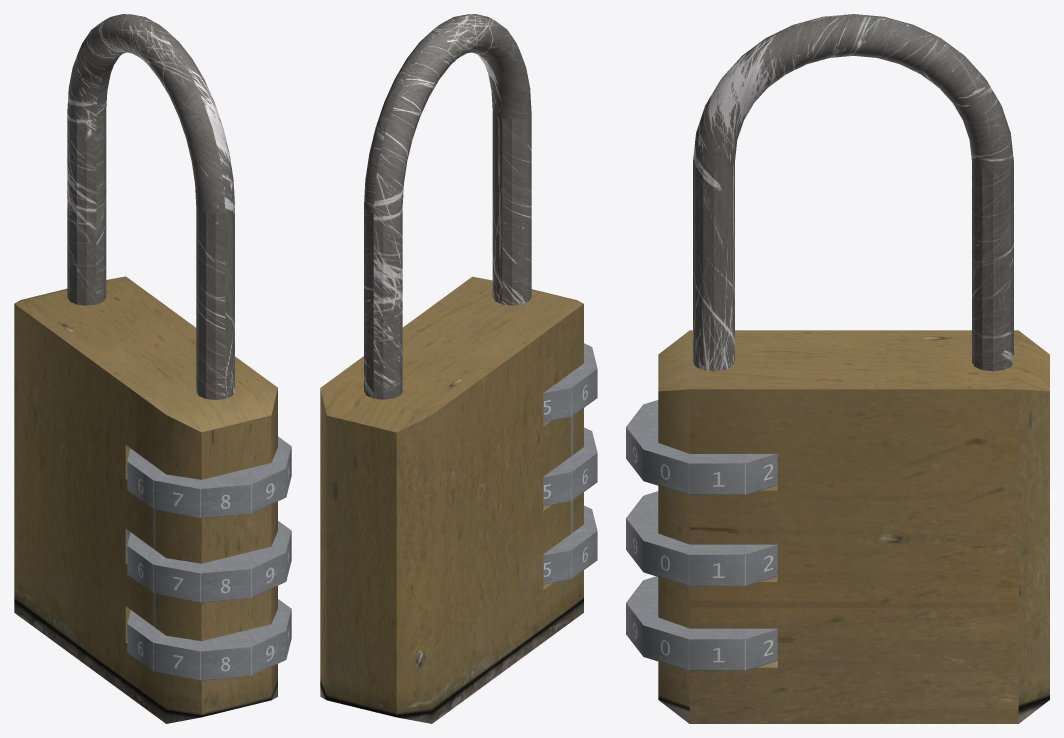
File: CodeLock.fbx
The picture shows the model from 3 angles, left to right: view 1: azimuth 30°, elevation 25°; view 2: azimuth 150°, elevation 25°; view 3: azimuth 270°, elevation 25°; orthographic projection. The views are drawn at different scales.
Visible parts, largest first — view 1: Box001, Torus001, Cylinder005, Cylinder004, Cylinder003; view 2: Box001, Torus001, Cylinder005, Cylinder004, Cylinder003; view 3: Box001, Torus001, Cylinder005, Cylinder004, Cylinder003.
Part boxes in pixels (left/top/right/bottom): Box001: left=14, top=276, right=277, bottom=723; Torus001: left=67, top=14, right=234, bottom=399; Cylinder005: left=127, top=599, right=291, bottom=680; Cylinder004: left=127, top=521, right=291, bottom=602; Cylinder003: left=127, top=436, right=291, bottom=518; Box001: left=320, top=276, right=583, bottom=723; Torus001: left=364, top=14, right=531, bottom=399; Cylinder005: left=543, top=505, right=597, bottom=584; Cylinder004: left=543, top=427, right=597, bottom=506; Cylinder003: left=543, top=343, right=597, bottom=422; Box001: left=658, top=330, right=1049, bottom=723; Torus001: left=693, top=14, right=1013, bottom=371; Cylinder005: left=626, top=576, right=777, bottom=670; Cylinder004: left=626, top=491, right=777, bottom=586; Cylinder003: left=626, top=400, right=777, bottom=494.
Size of the model in its own units: 20.26 by 87.88 by 49.57.
Materials: 3 (3 with a texture image).
